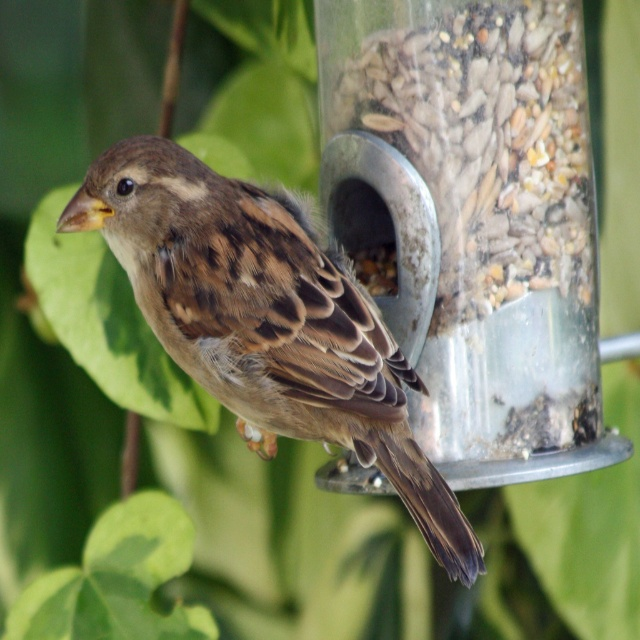Sparrow: (54, 134, 489, 591)
